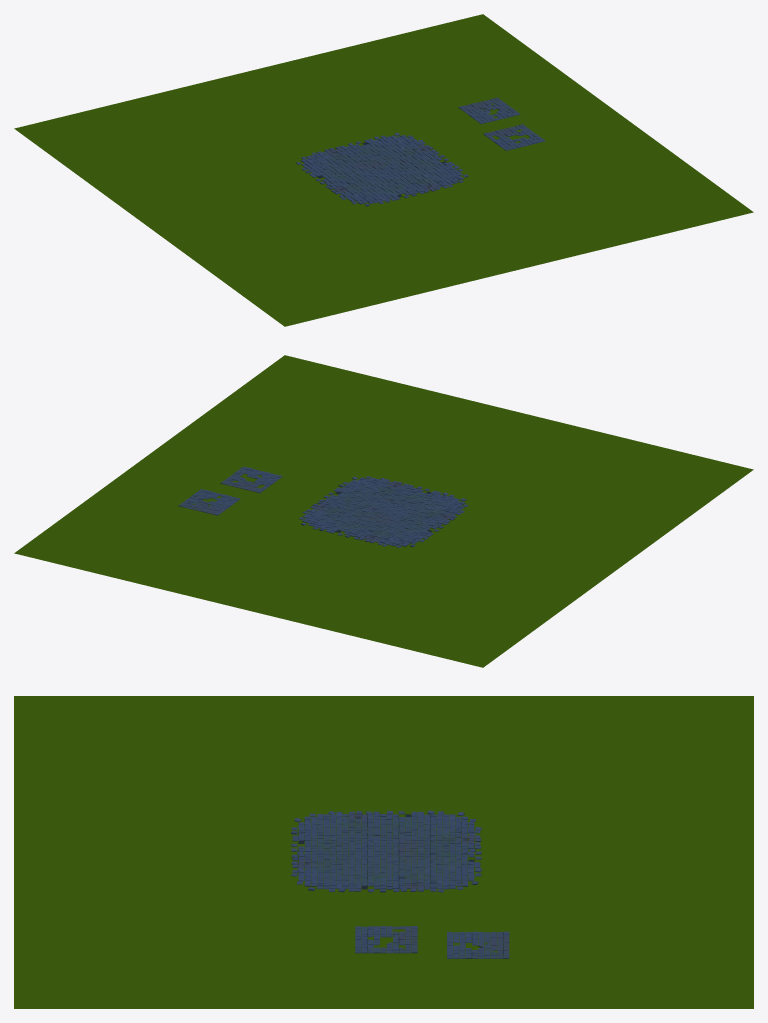
The model's file is newtiles.fbx.
The picture shows the model from 3 angles, top to bottom: view 1: azimuth 30°, elevation 25°; view 2: azimuth 150°, elevation 25°; view 3: azimuth 270°, elevation 25°; orthographic projection. The views are drawn at different scales.
Parts seen in each view (by area): view 1: pPlane7, pPlane12, pPlane8, pPlane6, pPlane13, pPlane11, pPlane5, pPlane10, pPlane9, midTile1, leftTile, downTile (+8 smaller); view 2: pPlane7, pPlane12, pPlane8, pPlane11, pPlane6, pPlane13, pPlane5, pPlane10, pPlane9, midTile1, leftTile, upTile (+8 smaller); view 3: pPlane8, pPlane6, pPlane7, pPlane11, pPlane12, pPlane13, pPlane5, pPlane10, pPlane9, midTile1, rightTile, upTile (+8 smaller).
Part boxes in pixels (box(x1,y1,x2,y2)): pPlane7: box(170, 52, 416, 156); pPlane12: box(351, 184, 597, 288); pPlane8: box(104, 156, 350, 260); pPlane6: box(14, 90, 260, 194); pPlane13: box(507, 146, 753, 250); pPlane11: box(195, 222, 440, 326); pPlane5: box(327, 14, 572, 118); pPlane10: box(417, 80, 663, 184); pPlane9: box(261, 118, 506, 222); midTile1: box(351, 156, 412, 182); leftTile: box(312, 166, 373, 192); downTile: box(374, 173, 435, 199); pPlane7: box(170, 525, 416, 629); pPlane12: box(351, 393, 597, 497); pPlane8: box(417, 497, 663, 601); pPlane11: box(507, 431, 753, 535); pPlane6: box(327, 563, 572, 667); pPlane13: box(195, 355, 440, 459); pPlane5: box(14, 487, 260, 591); pPlane10: box(104, 421, 350, 525); pPlane9: box(261, 459, 506, 563); midTile1: box(352, 498, 414, 524); leftTile: box(393, 508, 454, 534); upTile: box(329, 515, 391, 542); pPlane8: box(260, 696, 507, 800); pPlane6: box(507, 696, 753, 800); pPlane7: box(507, 800, 753, 904); pPlane11: box(14, 696, 260, 800); pPlane12: box(14, 800, 260, 904); pPlane13: box(14, 904, 260, 1008); pPlane5: box(507, 904, 753, 1008); pPlane10: box(260, 904, 507, 1008); pPlane9: box(260, 800, 507, 904); midTile1: box(355, 838, 417, 864); rightTile: box(355, 864, 417, 892); upTile: box(417, 838, 481, 864).
Size of the model in its own units: 30 by 0.0724 by 30.
